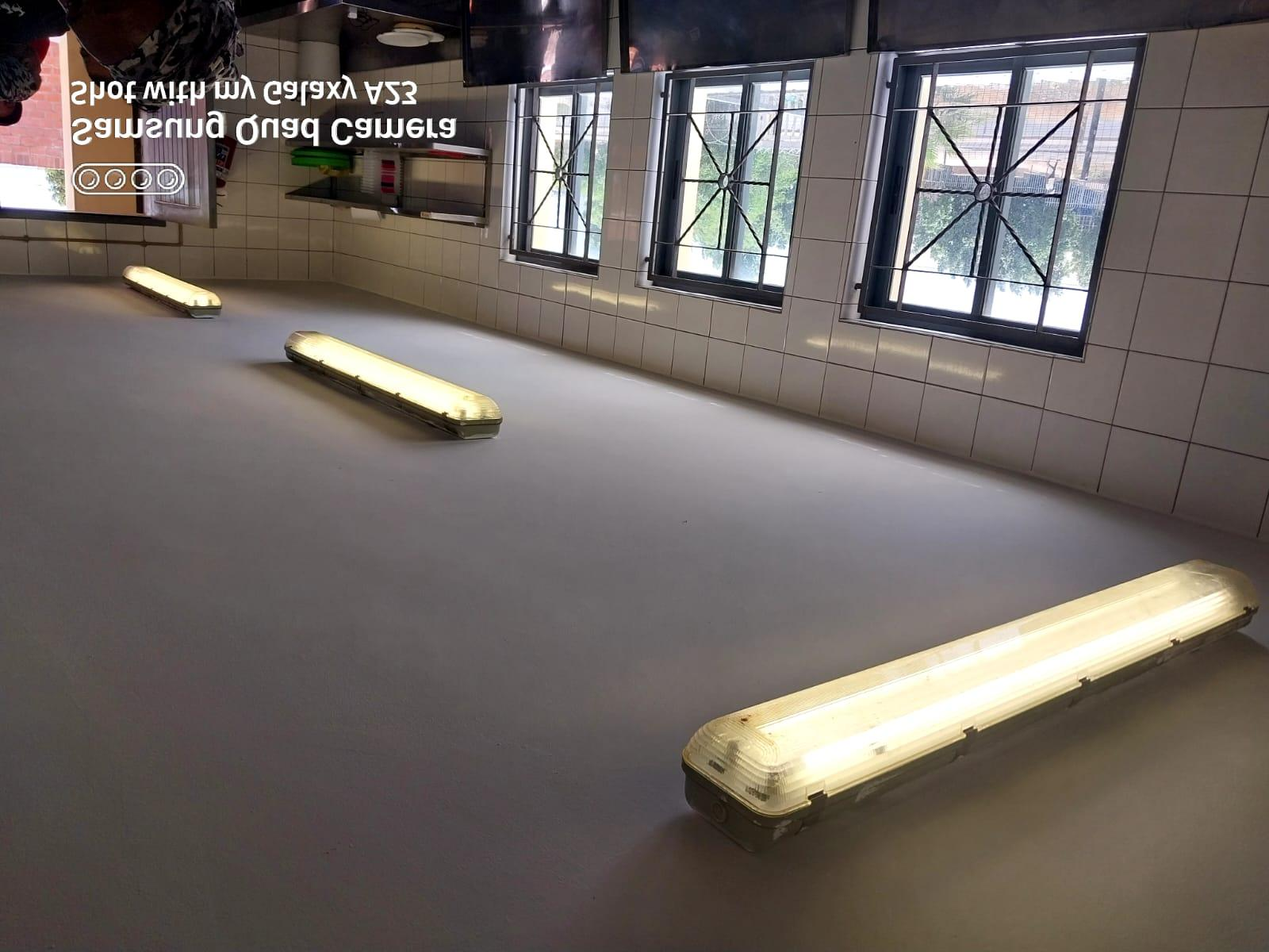light: (680, 555, 1259, 853), (283, 328, 503, 440)
